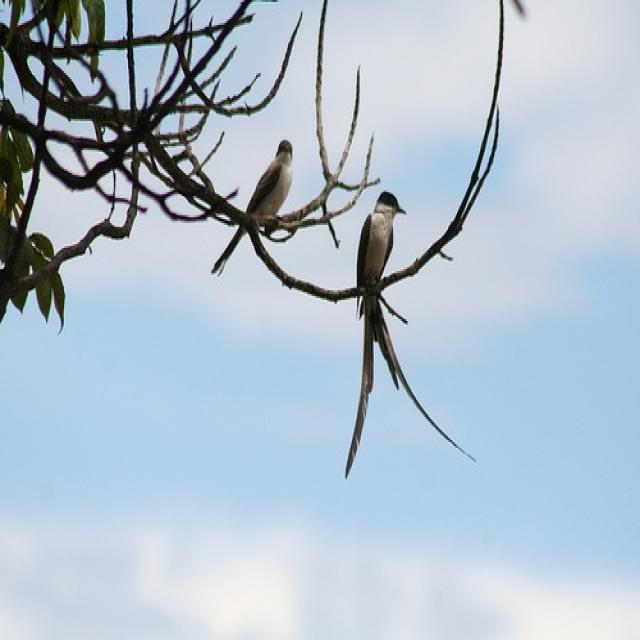bird: (343, 184, 480, 474), (213, 134, 305, 280)
